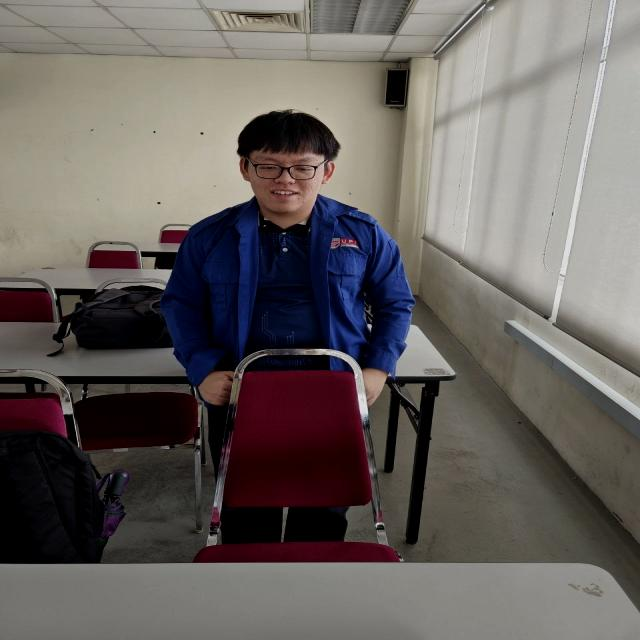person_with_labcoat: (162, 110, 413, 464)
